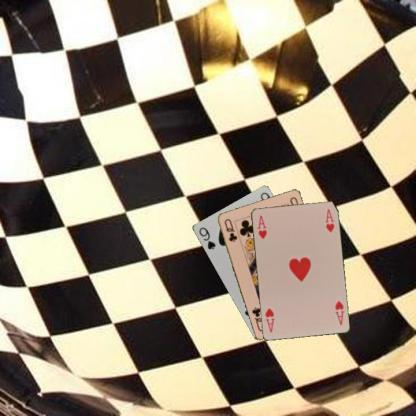9s: (196, 225, 217, 251)
Ah: (254, 212, 268, 240), (332, 298, 346, 326)
Qc: (221, 216, 238, 243)
